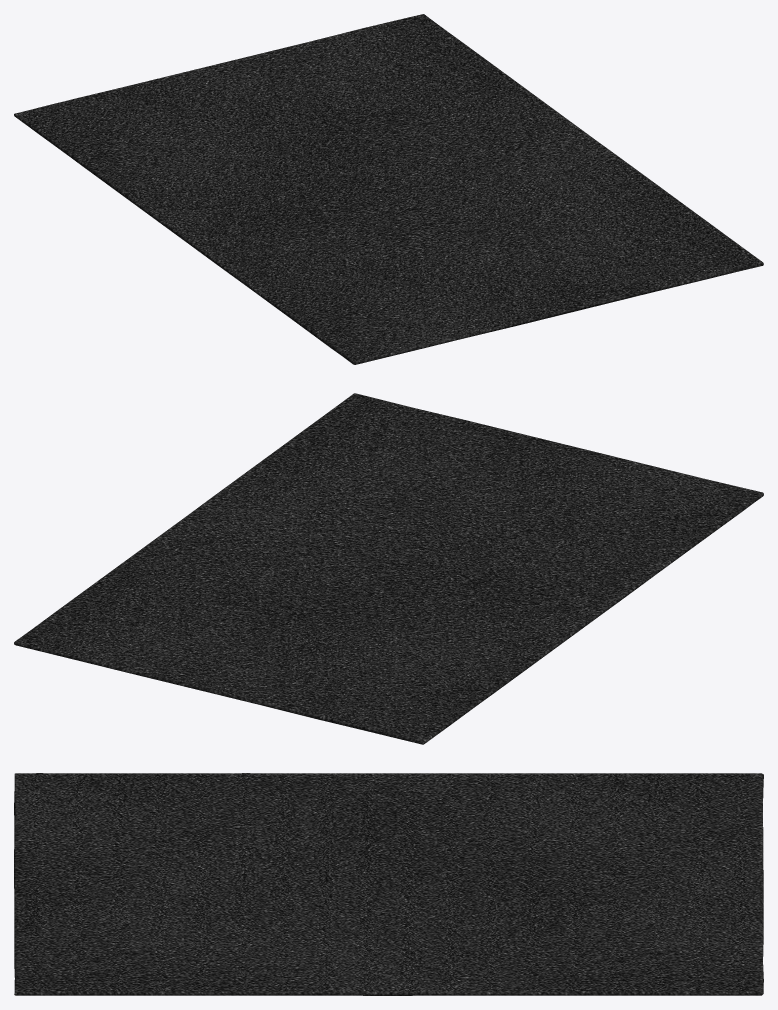
Rendered from another-rug.glb.
The picture shows the model from 3 angles, top to bottom: view 1: azimuth 30°, elevation 25°; view 2: azimuth 150°, elevation 25°; view 3: azimuth 270°, elevation 25°; orthographic projection. The views are drawn at different scales.
Parts seen in each view (by area): view 1: Rug_low; view 2: Rug_low; view 3: Rug_low.
Boxes of the visible parts, x1,y1,x2,y2 form: Rug_low: (14,14,763,364); Rug_low: (14,393,763,744); Rug_low: (14,773,763,995).
Size of the model in its own units: 63.03 by 0.5418 by 90.79.
Materials: 1 (1 with a texture image).
